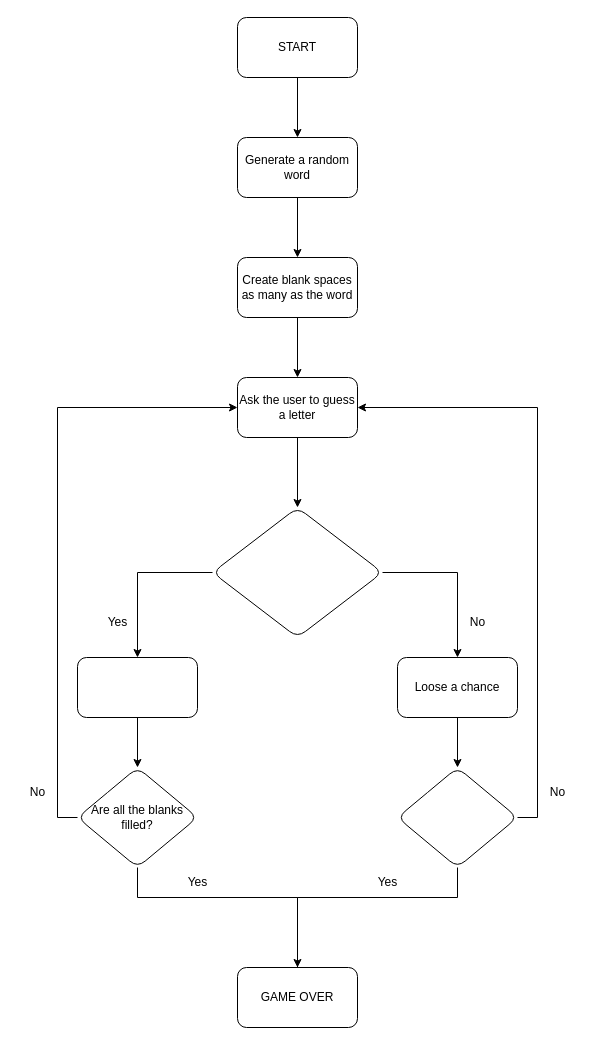
The diagram is 594 pixels wide and 1045 high, and some of its shapes have lost their labels. Here are the shapes that lost their labels. From the top down, the centre of each, then its label:
At (x=297, y=572): "Is the guessed letter in the word?".
At (x=137, y=687): "Replace the blank space with the letter".
At (x=457, y=817): "Are all the chances over?".
